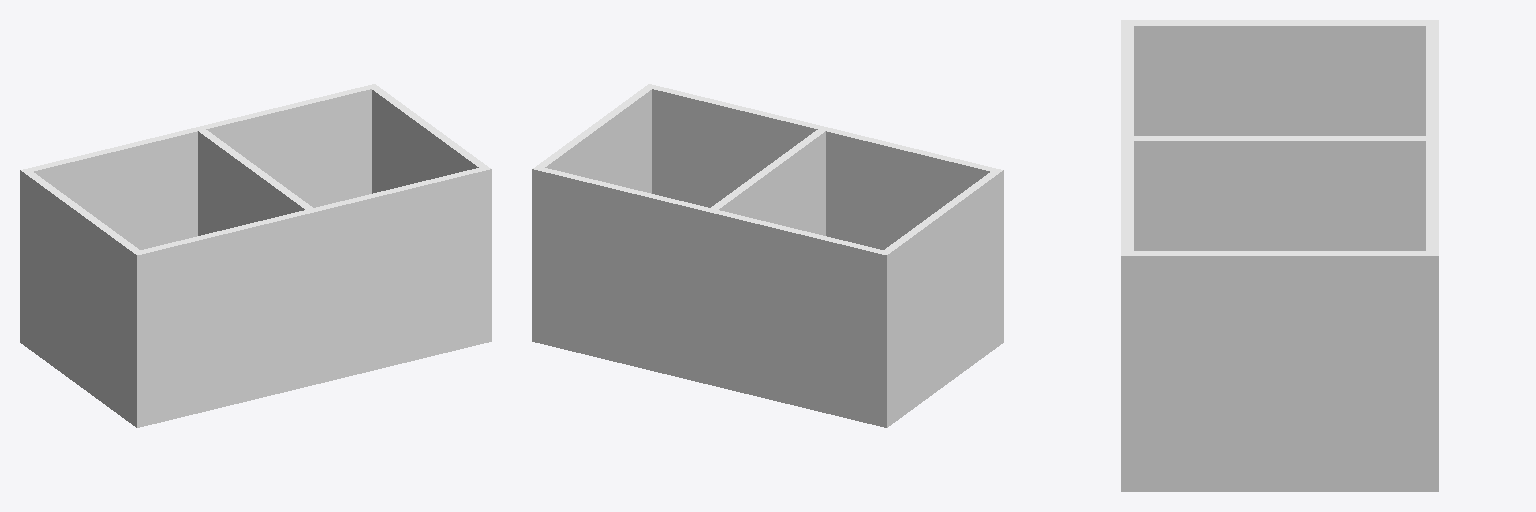
The robot description file, URDF, robot "bookshelf.urdf":
<?xml version="1.0" ?>
<robot name="bookshelf.urdf">
  <material name="white">
    <color rgba="1 1 1 1"/>
  </material>
  <link name="baseLink">
    <contact>
      <lateral_friction value="1.0"/>
    </contact>
    <inertial>
      <origin rpy="0 0 0" xyz="0 0 0"/>
       <mass value=".0"/>
       <inertia ixx="1" ixy="0" ixz="0" iyy="1" iyz="0" izz="1"/>
    </inertial>
    <visual>
      <origin rpy="0 0 0" xyz="0 0 0"/>
      <geometry>
        <mesh filename="bookshelf.obj" scale="0.001 0.001 0.001"/>
      </geometry>
	  <material name="white"/>
    </visual>
    <collision concave = 'yes'>
      <origin rpy="0 0 0" xyz="0 0 0"/>
      <geometry>
        <mesh filename="bookshelf.obj" scale="0.001 0.001 0.001"/>
      </geometry>
    </collision>
  </link>
</robot>

--- What the picture shows (computed from the rendered views, not written in the file) ---
3 views of the same robot in one strip: view 1: azimuth 30°, elevation 25°; view 2: azimuth 150°, elevation 25°; view 3: azimuth 270°, elevation 25° (orthographic).
Model bookshelf.urdf with 1 links and 0 joints (none), rooted at baseLink, posed all joints at 0.
Visible links, largest first — view 1: baseLink; view 2: baseLink; view 3: baseLink.
Boxes of the visible links, bbox=[...] form: baseLink: bbox=[20, 84, 491, 427]; baseLink: bbox=[532, 84, 1003, 427]; baseLink: bbox=[1121, 20, 1438, 491].
Size in the robot's own frame: 0.537 by 0.306 by 0.25 metres.
1 mesh visuals loaded from 1 distinct referenced files (1 OBJ).